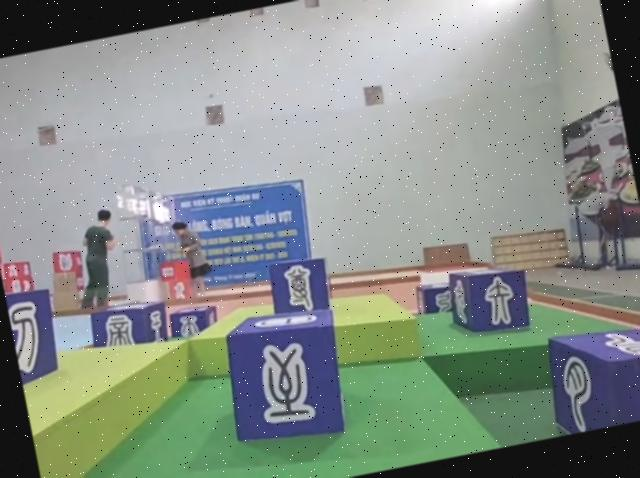R2 Fake Blue: (216, 302, 356, 453), (539, 316, 640, 436), (446, 259, 537, 343), (4, 282, 66, 394), (88, 296, 174, 355), (264, 254, 335, 324), (168, 303, 222, 341), (414, 280, 455, 318)
